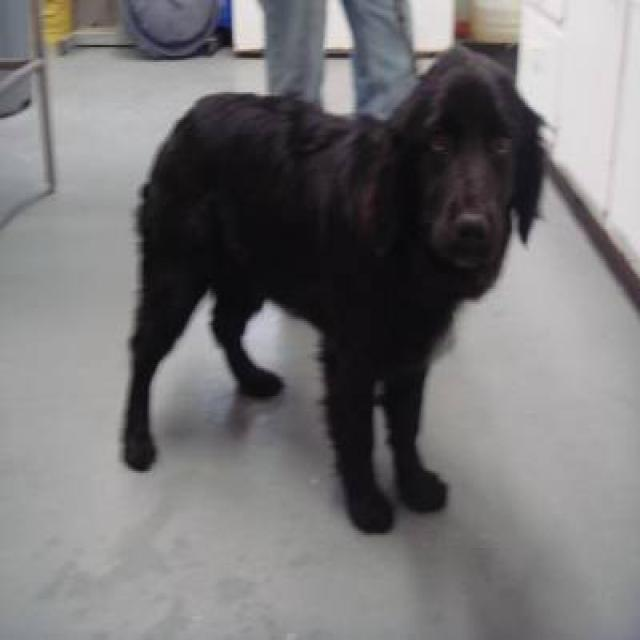Dog: (369, 22, 559, 314)
